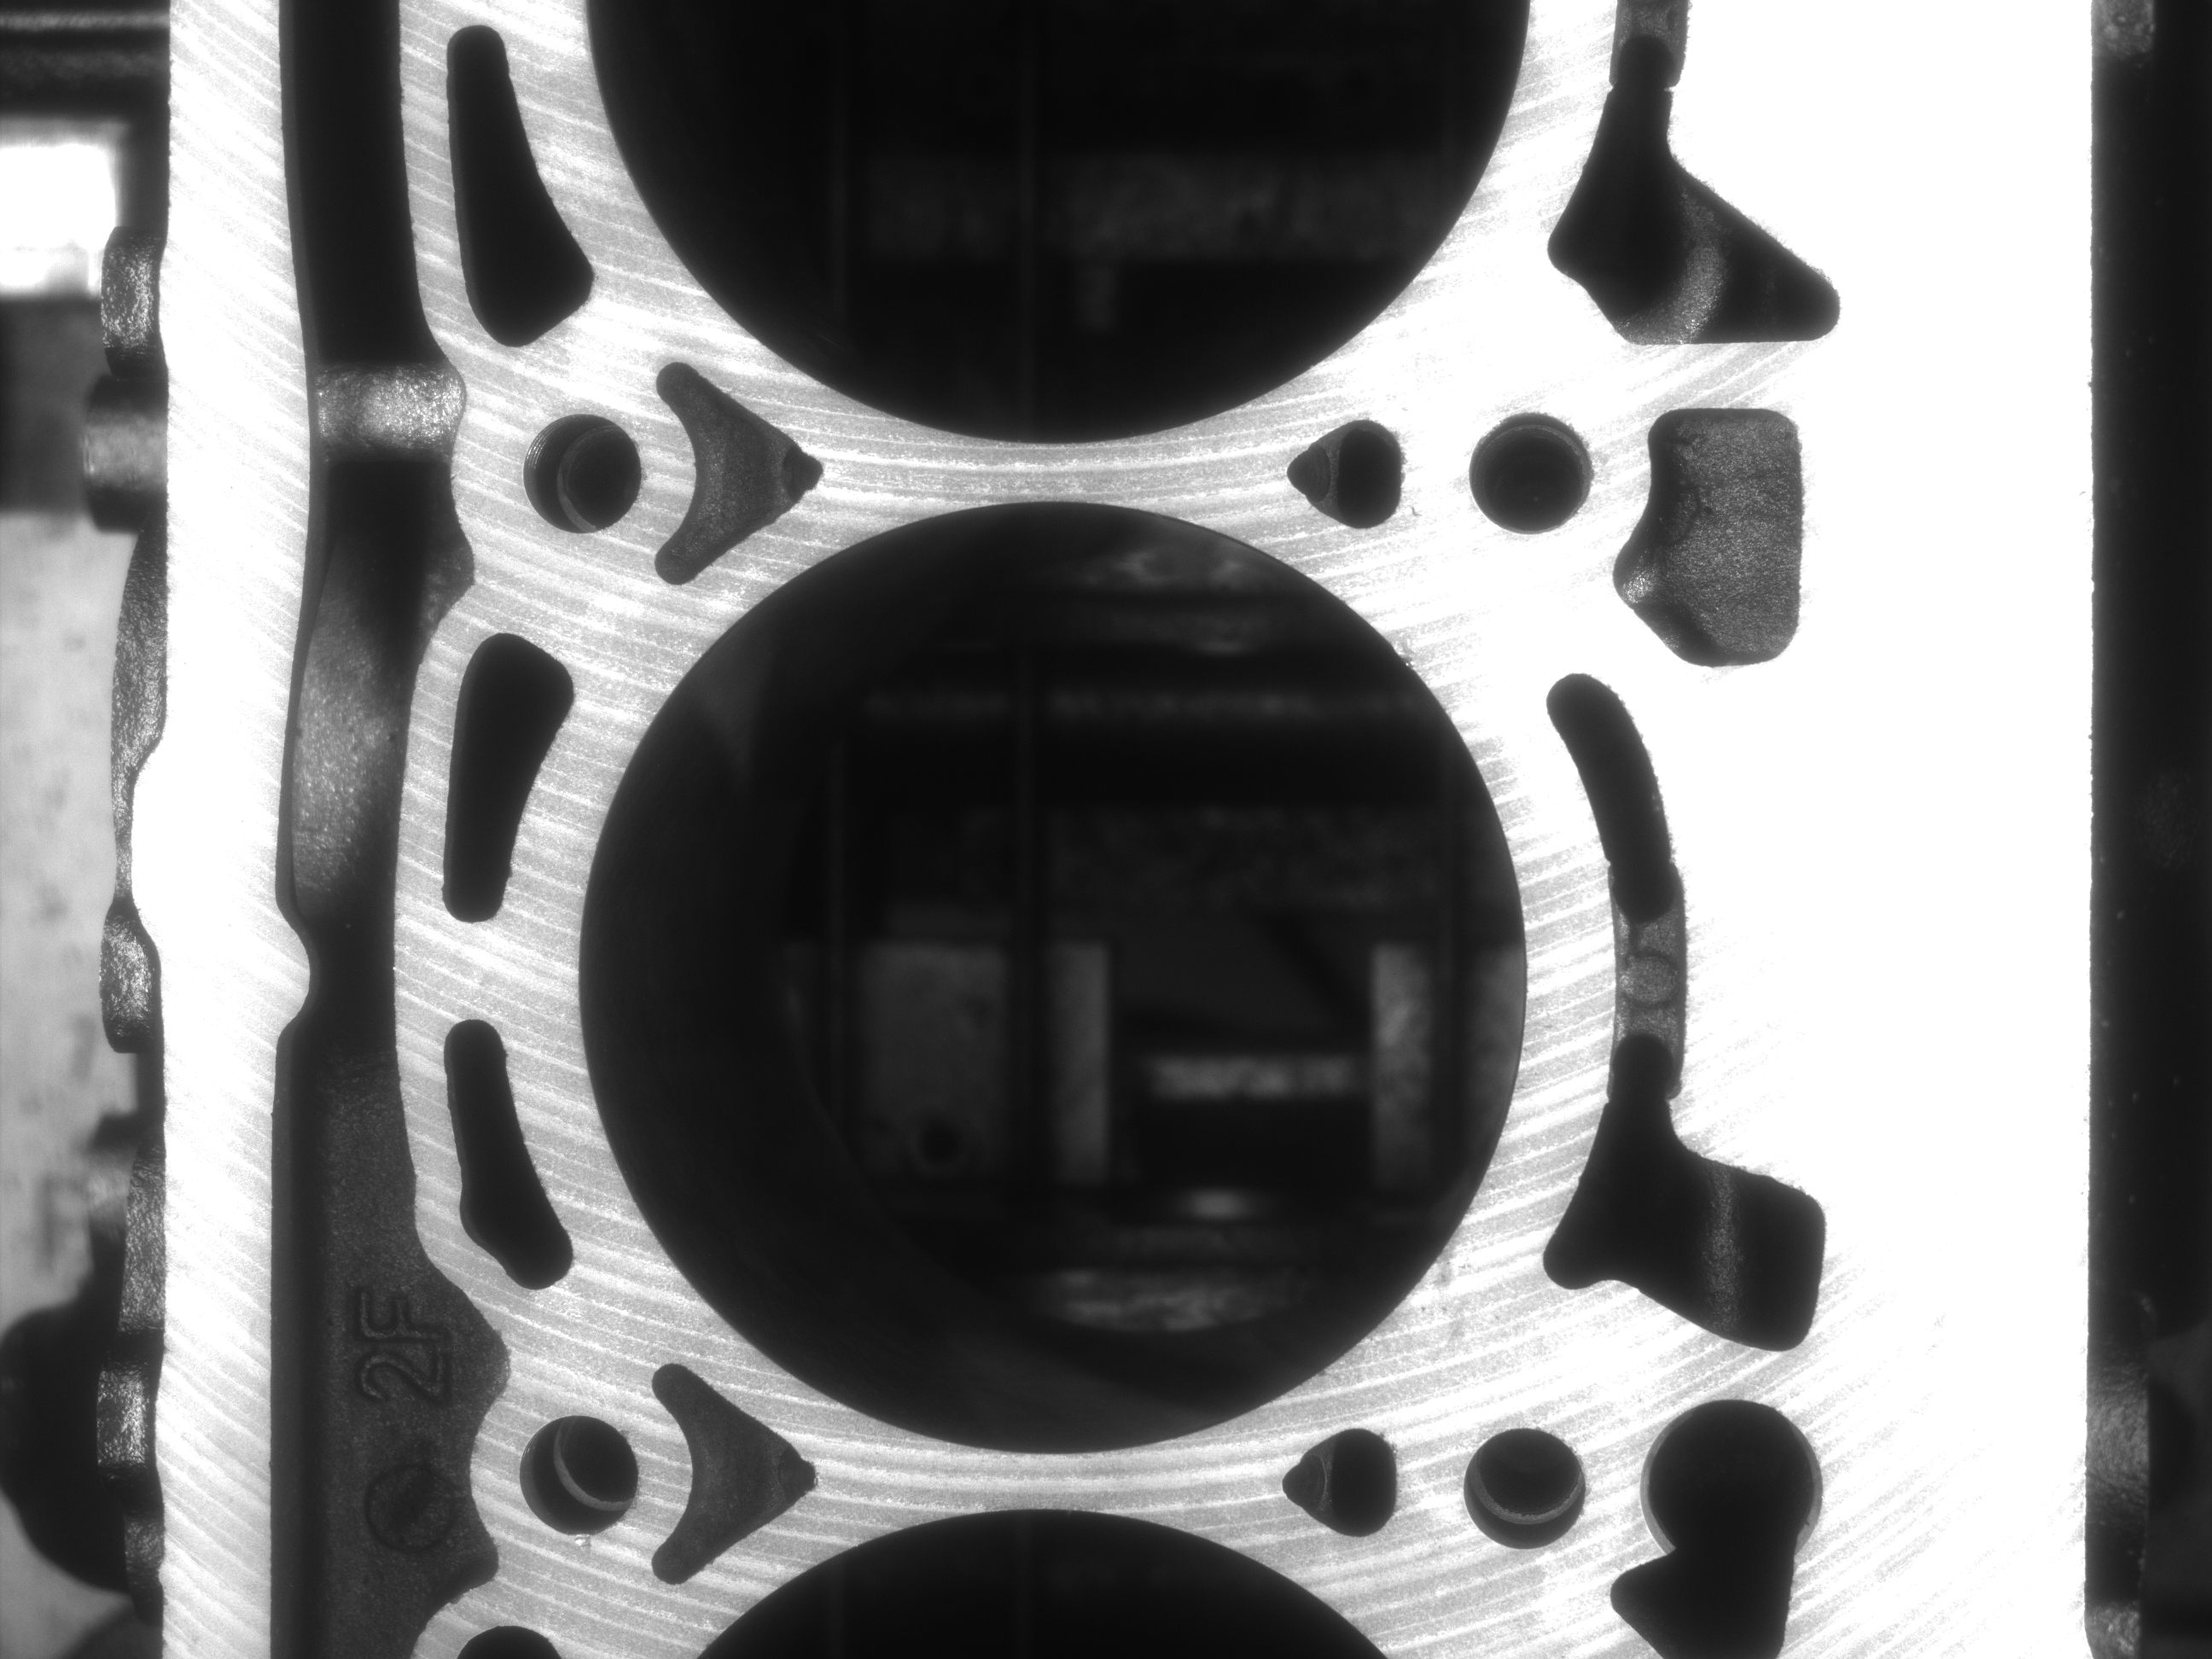shrinkage: (1378, 613, 1413, 664)
